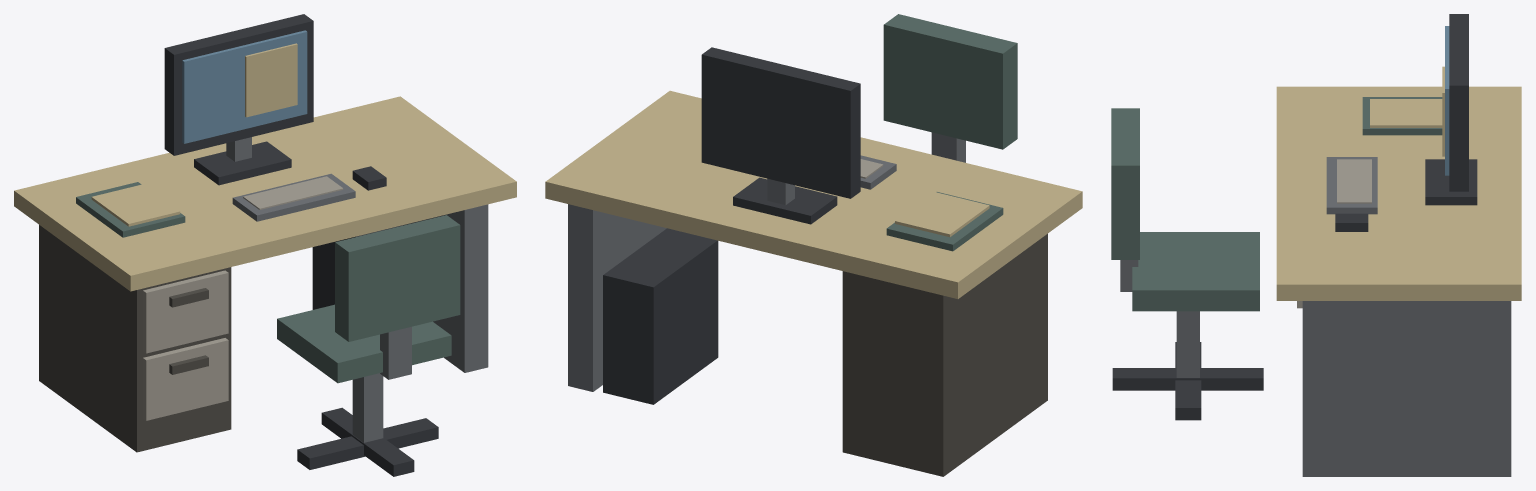
Rendered from prop-desk-computer.glb.
3 views of the same model, side by side, from view 1: azimuth 30°, elevation 25°; view 2: azimuth 150°, elevation 25°; view 3: azimuth 270°, elevation 25° (orthographic). The views are drawn at different scales.
Parts seen in each view (by area): view 1: desk_computer; view 2: desk_computer; view 3: desk_computer.
Part boxes in pixels (x1,y1,x2,y2): desk_computer: (14, 14, 516, 476); desk_computer: (545, 14, 1082, 476); desk_computer: (1111, 14, 1521, 476).
Bounding box in the file's own units: 0.9 × 0.715 × 0.7875.
